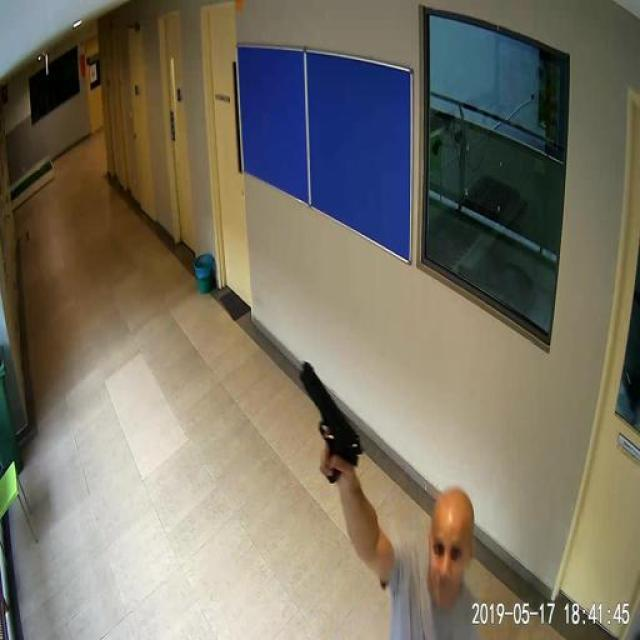Gun: (272, 347, 373, 483)
